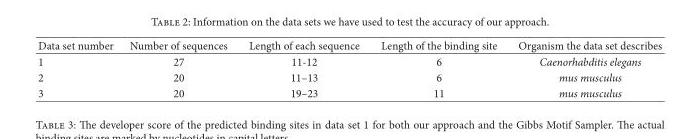table: (37, 37, 661, 100)
table column: (506, 37, 661, 100), (369, 37, 506, 100), (237, 37, 369, 100), (120, 37, 237, 100), (37, 37, 120, 100)
table column header: (37, 37, 661, 52)
table row: (37, 52, 661, 68), (37, 68, 661, 84), (37, 84, 661, 100), (37, 37, 661, 52)
